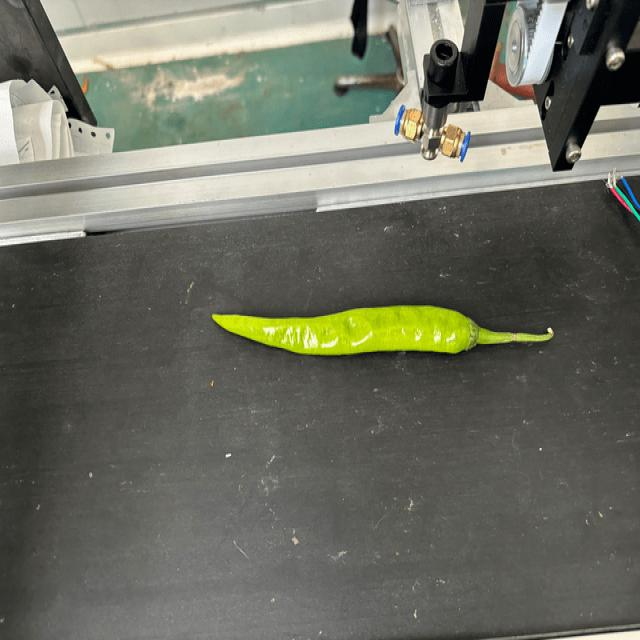chili: (210, 304, 480, 356)
